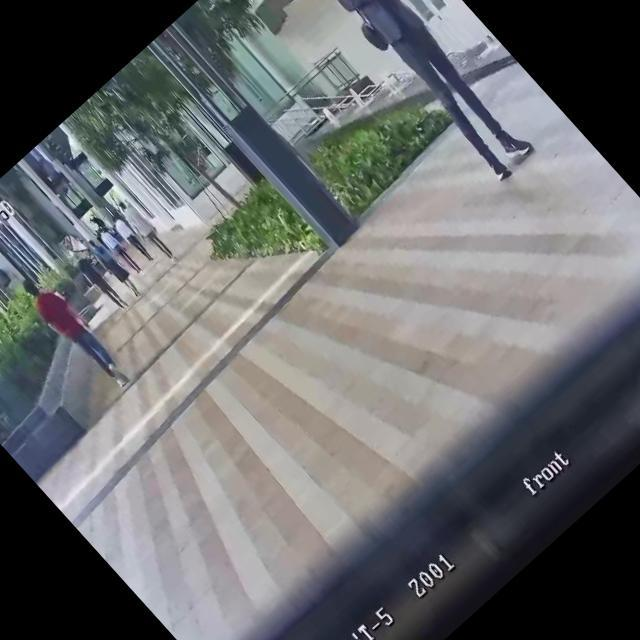person: (272, 0, 545, 184), (13, 266, 137, 398), (112, 192, 182, 266), (68, 248, 131, 316), (84, 233, 146, 300), (94, 223, 144, 277), (106, 210, 156, 264)
